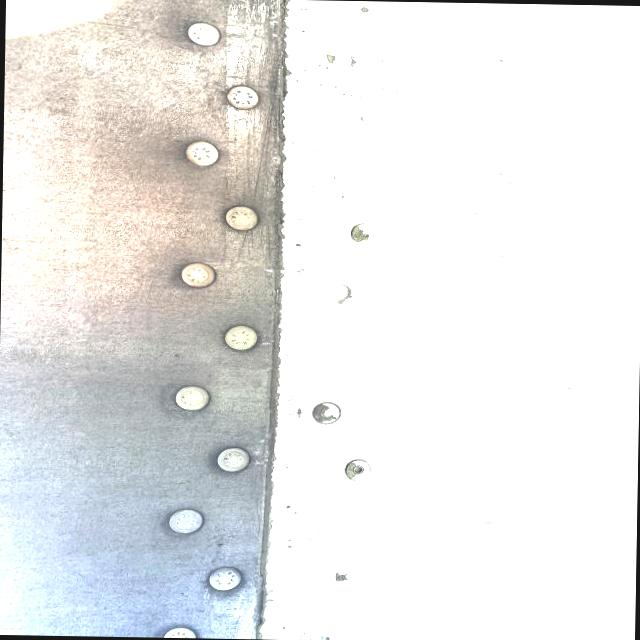crack: (413, 323, 490, 428), (469, 160, 521, 213)
